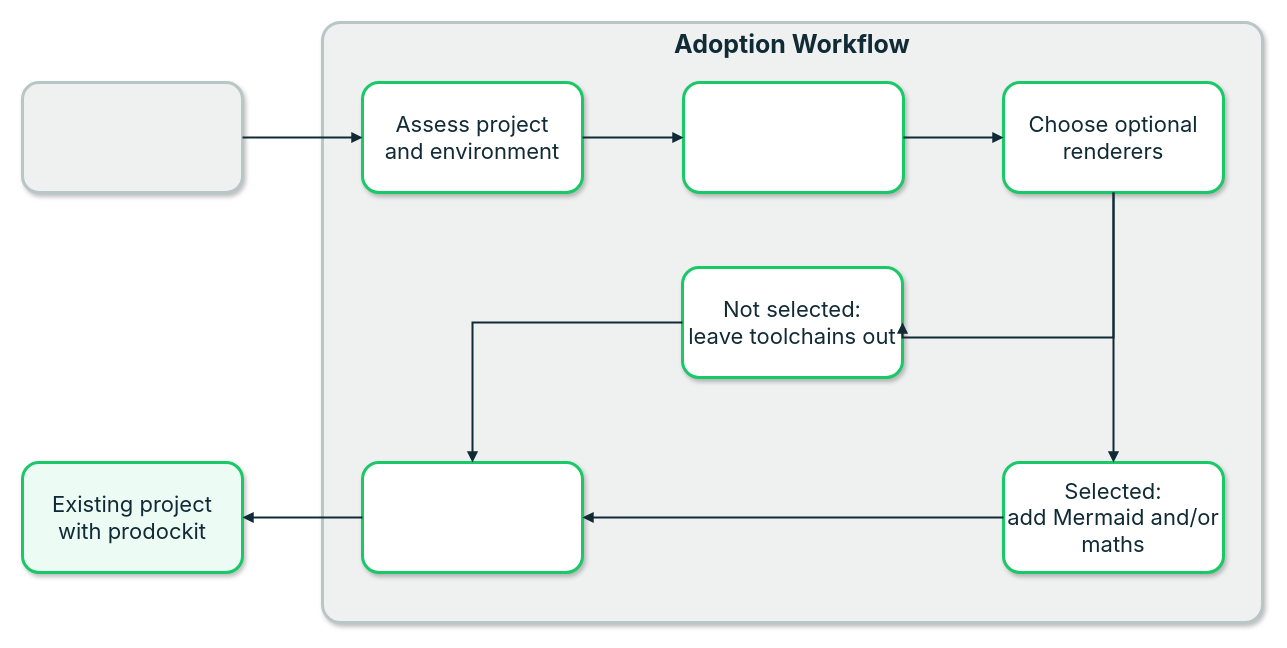
The diagram is 1287 pixels wide and 648 high, and some of its shapes have lost their labels. Each missing label, with the centre of its shape:
"Add standard authoring components" belongs at (x=794, y=138).
"Build and review local changes" belongs at (x=473, y=518).
"Existing documentation project" belongs at (x=133, y=138).
